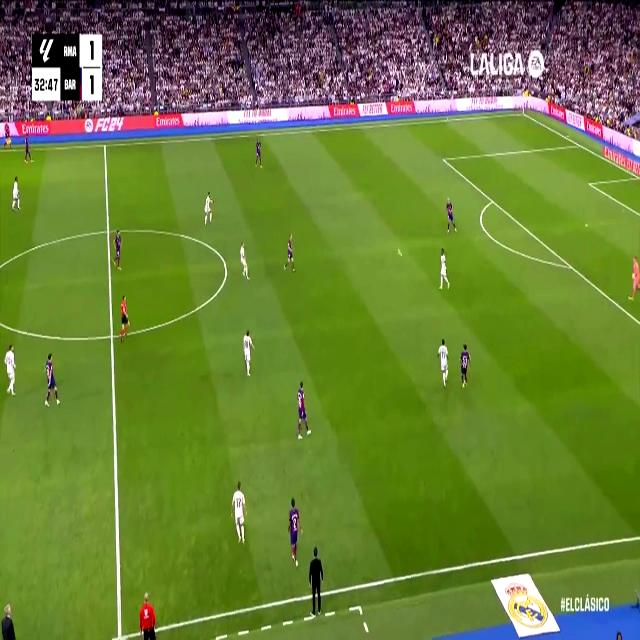bigarea_top_inner: (439, 152, 446, 166)
bottom_arc_area_intersection: (566, 258, 574, 274)
corner: (520, 110, 526, 118)
halfcircle_bottom: (106, 322, 118, 348)
halfcircle_top: (103, 221, 113, 241)
midline_bottom_intersection: (112, 618, 129, 640)
midline_top_intersection: (102, 138, 108, 152)
smallarea_top_inner: (588, 178, 592, 188)
top_arc_area_intersection: (489, 193, 495, 207)
